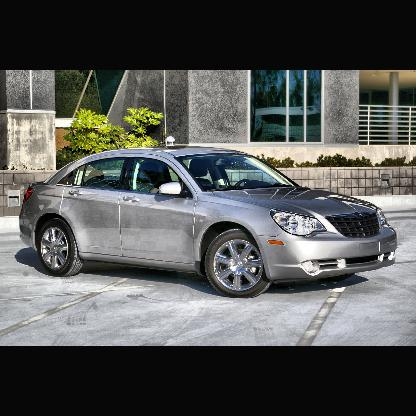Chrysler Sebring Convertible 2010: (19, 134, 399, 299)
